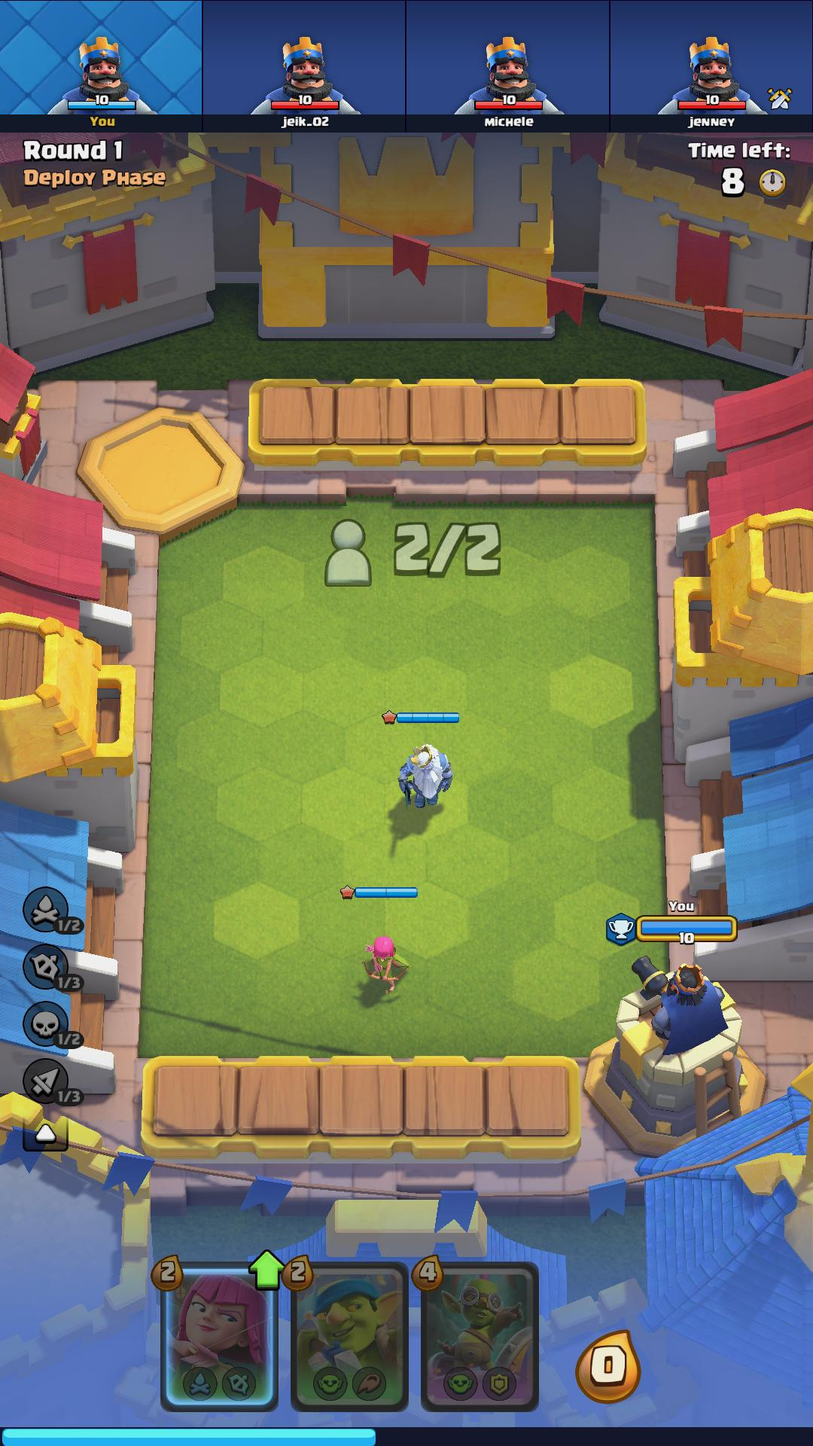archer: (359, 921, 412, 995)
ghost: (391, 729, 457, 811)
hand-archer: (166, 1265, 277, 1407)
hand-machine: (420, 1265, 536, 1407)
hand-spear: (297, 1264, 408, 1408)
upgrade: (248, 1245, 287, 1290)
